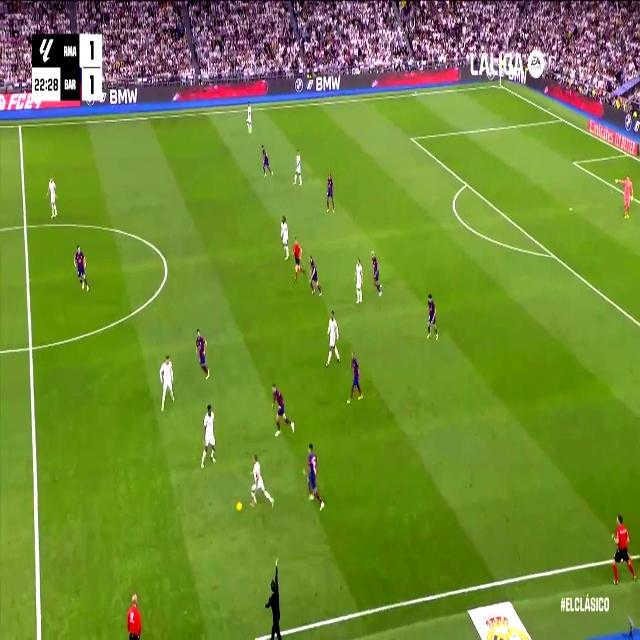bigarea_top_inner: (407, 130, 415, 145)
bigarea_top_outter: (558, 112, 565, 124)
bottom_arc_area_intersection: (548, 246, 558, 264)
corner: (496, 80, 504, 90)
halfcircle_bottom: (25, 334, 37, 361)
halfcircle_top: (20, 215, 31, 238)
midline_top_intersection: (17, 120, 23, 132)
smallarea_top_inner: (571, 156, 577, 168)
top_arc_area_intersection: (463, 176, 470, 190)
